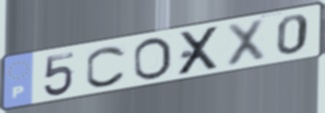0: (274, 13, 310, 58)
5: (41, 50, 77, 97)
C: (84, 44, 128, 89)
O: (132, 36, 174, 83)
X: (176, 23, 223, 78), (224, 16, 268, 69)
